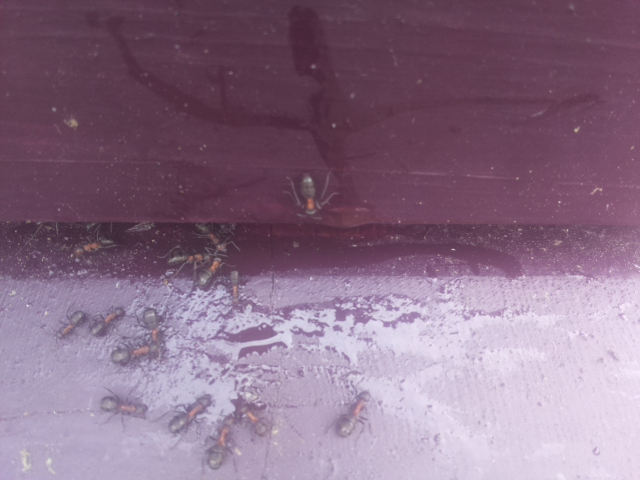ant: (160, 387, 220, 442), (329, 386, 377, 443), (91, 388, 153, 426), (81, 300, 133, 344), (203, 417, 241, 475), (292, 162, 325, 226), (136, 304, 171, 360), (64, 231, 120, 266), (105, 337, 164, 368), (193, 251, 227, 289), (52, 308, 90, 340), (225, 266, 245, 313), (239, 409, 272, 436), (163, 250, 208, 264)
